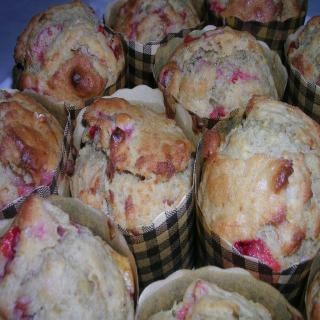Muffin: (0, 0, 320, 320), (197, 100, 316, 285)
